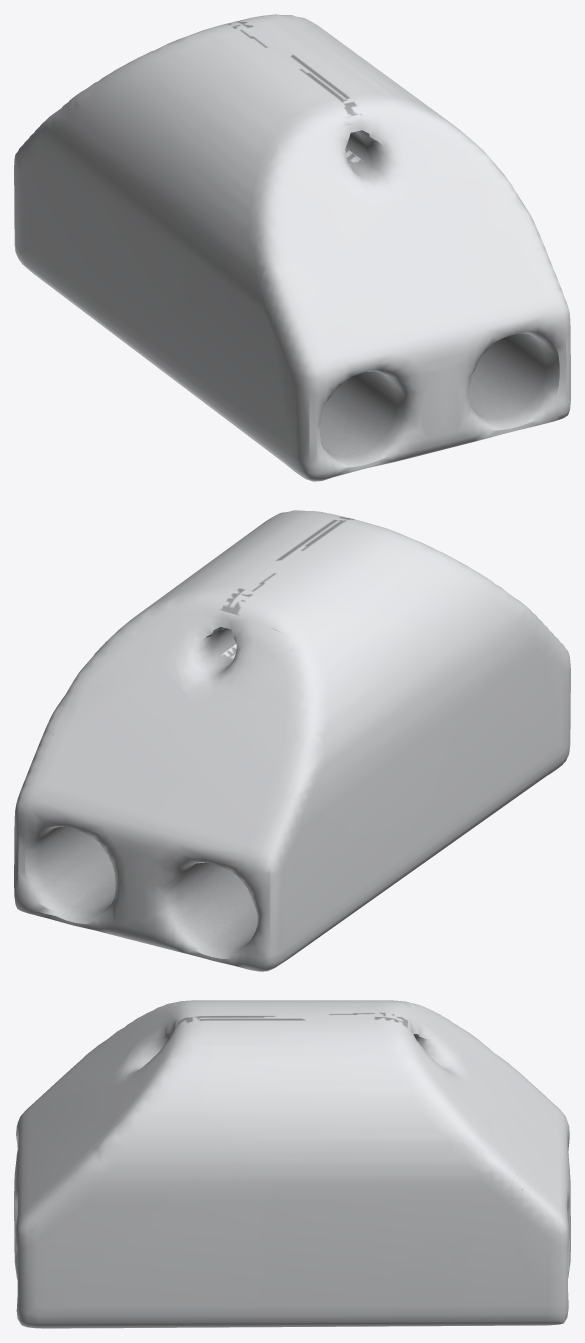
File: left_finger1_middle.obj
3 views of the same model, one above another, from view 1: azimuth 30°, elevation 25°; view 2: azimuth 150°, elevation 25°; view 3: azimuth 270°, elevation 25° (orthographic). The views are drawn at different scales.
Parts seen in each view (by area): view 1: left_finger1_middle; view 2: left_finger1_middle; view 3: left_finger1_middle.
Part boxes in pixels (x1,y1,x2,y2): left_finger1_middle: (14,14,570,481); left_finger1_middle: (14,510,570,971); left_finger1_middle: (14,1000,570,1328).
Bounding box in the file's own units: 0.0103 × 0.0104 × 0.0201.
Materials: 1 (1 with a texture image).
